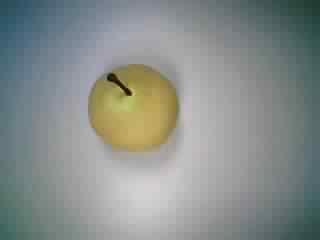pear: (75, 57, 191, 160)
